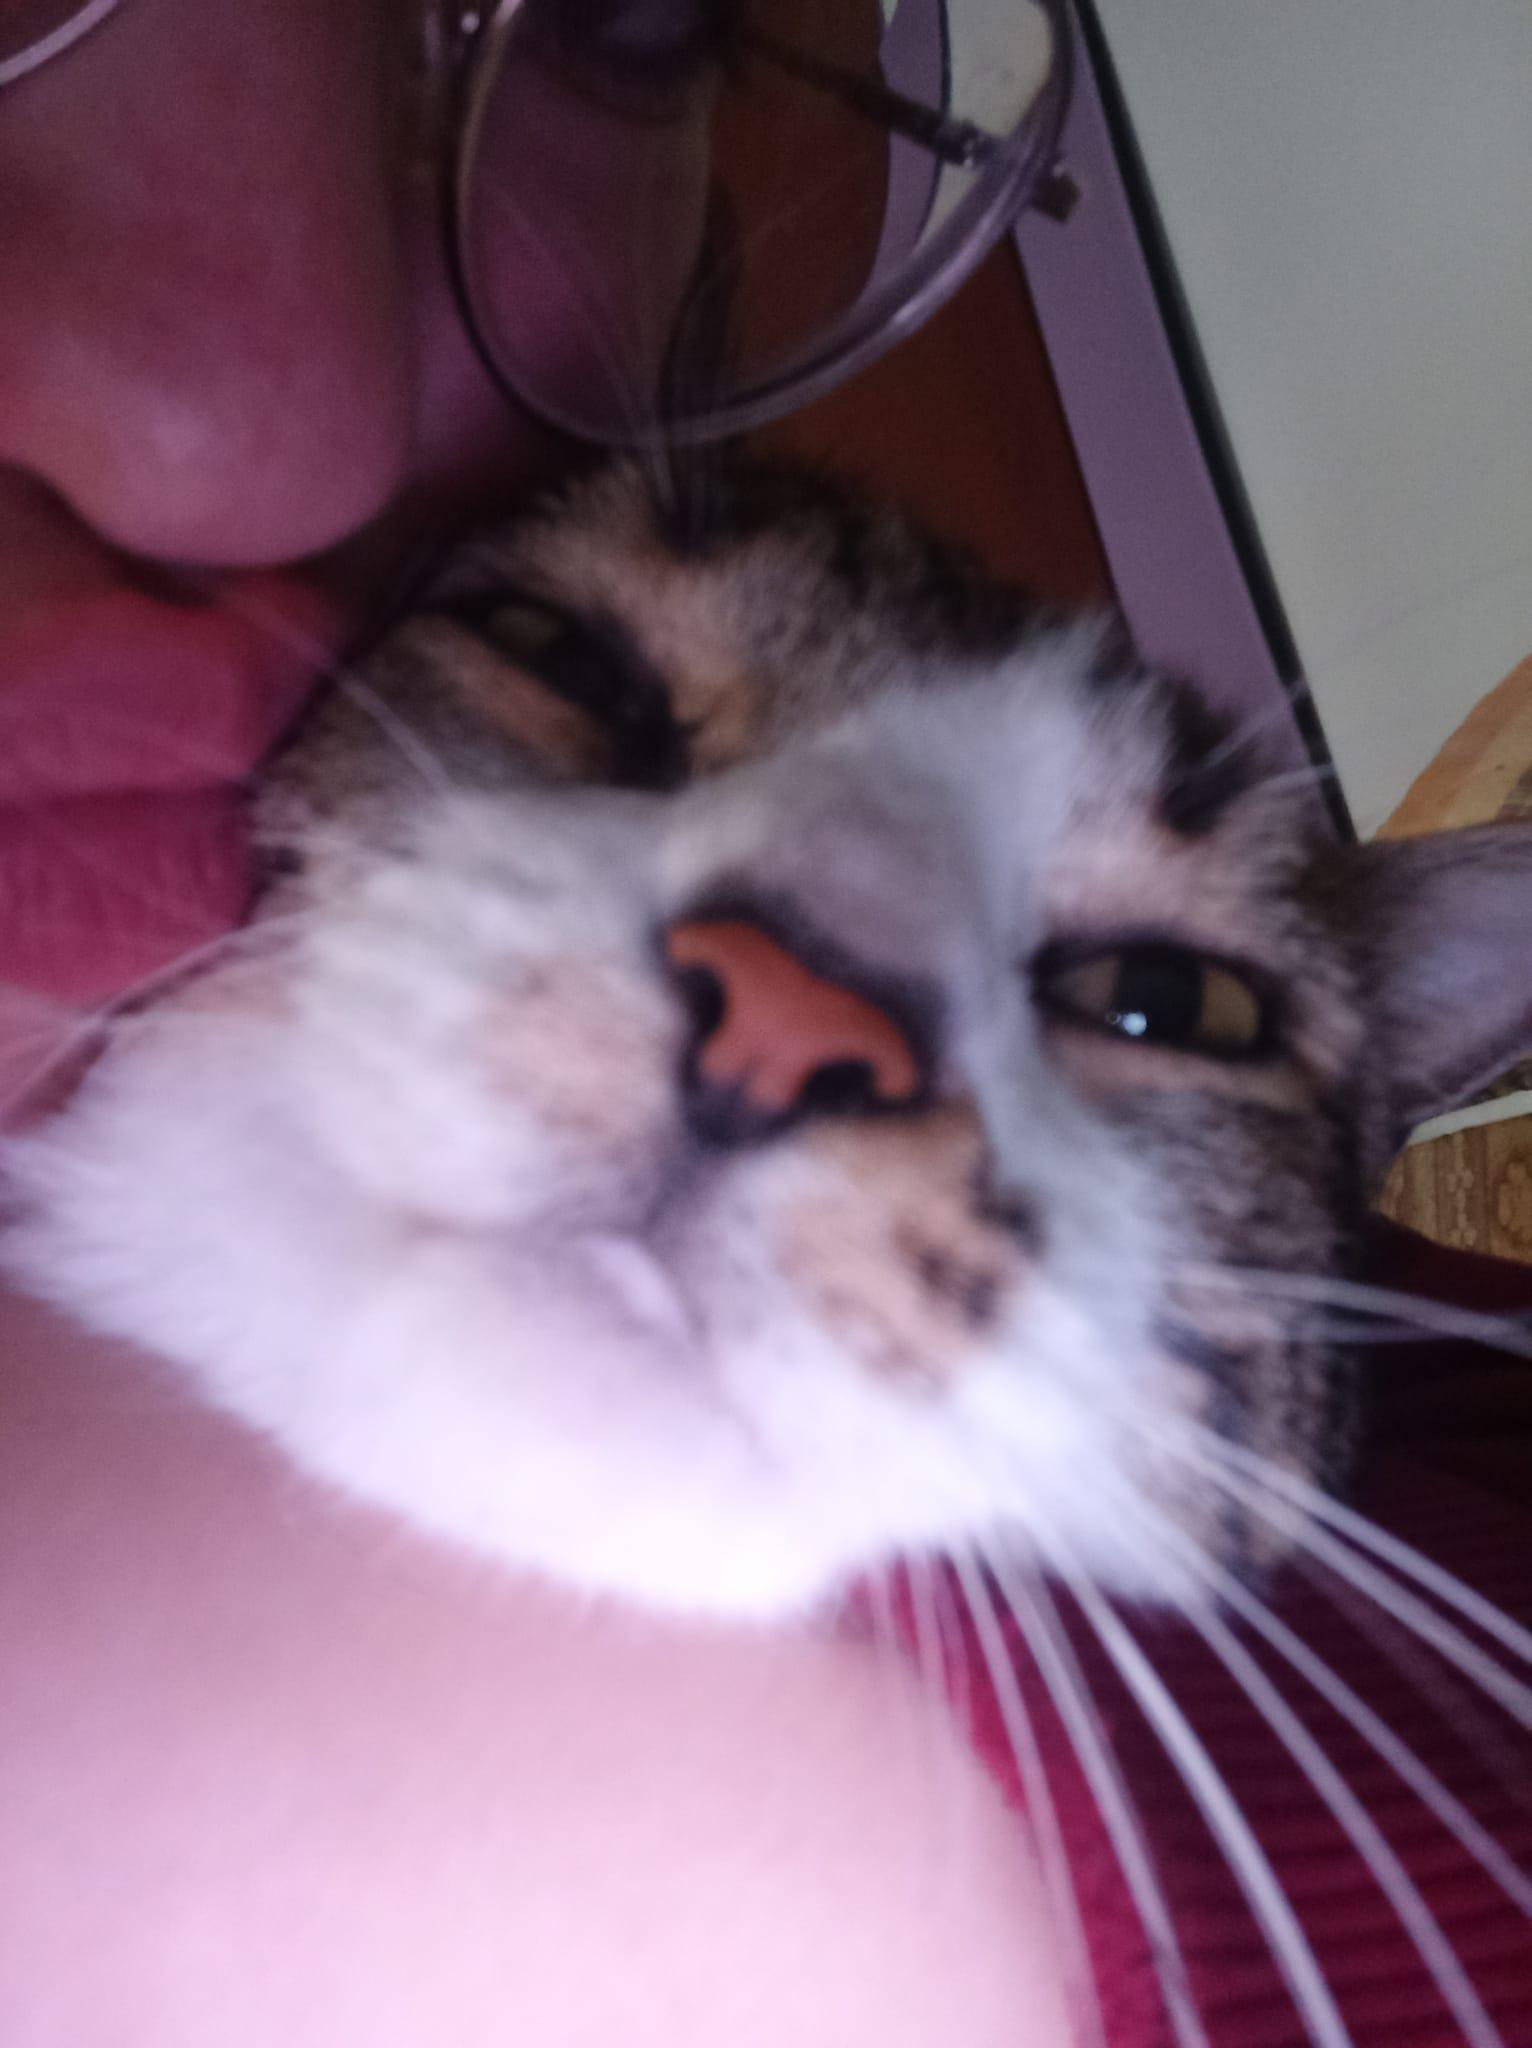kedo: (0, 264, 1532, 1617)
